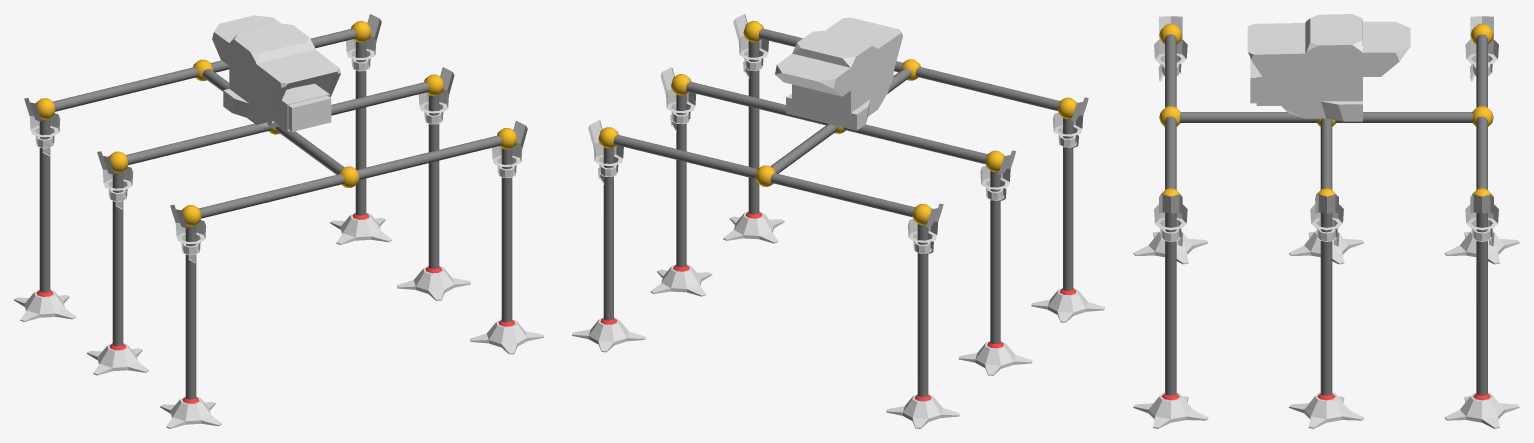
File: player.glb
3 views of the same model, side by side, from view 1: azimuth 30°, elevation 25°; view 2: azimuth 150°, elevation 25°; view 3: azimuth 270°, elevation 25° (orthographic). The views are drawn at different scales.
Visible parts, largest first — view 1: joint_node1, leg_L2, leg_R1, leg_R2, leg_R0, leg_L1, leg_L0, hip_L2, hip_R0, hip_R2, hip_R1, joint_foot_L0 (+14 smaller); view 2: joint_node1, leg_R0, leg_R1, leg_L0, leg_R2, leg_L2, leg_L1, hip_L0, hip_R0, hip_R2, hip_R1, hip_L1 (+14 smaller); view 3: joint_node1, leg_L1, leg_L0, leg_L2, spine2, joint_foot_L1, joint_foot_L0, joint_foot_L2, spine1, joint_knee_L2, joint_knee_L1, joint_knee_L0 (+10 smaller).
Part boxes in pixels (x1=…): joint_node1: x1=212, y1=15, x2=340, y2=134; leg_L2: x1=501, y1=148, x2=512, y2=322; leg_R1: x1=112, y1=172, x2=123, y2=346; leg_R2: x1=185, y1=225, x2=196, y2=399; leg_R0: x1=39, y1=118, x2=50, y2=292; leg_L1: x1=428, y1=95, x2=439, y2=268; leg_L0: x1=355, y1=41, x2=366, y2=215; hip_L2: x1=357, y1=135, x2=501, y2=179; hip_R0: x1=53, y1=67, x2=197, y2=111; hip_R2: x1=199, y1=174, x2=343, y2=218; hip_R1: x1=126, y1=123, x2=271, y2=165; joint_foot_L0: x1=330, y1=212, x2=391, y2=244; joint_node1: x1=775, y1=17, x2=902, y2=133; leg_R0: x1=917, y1=224, x2=928, y2=397; leg_R1: x1=990, y1=171, x2=1000, y2=343; leg_L0: x1=603, y1=147, x2=613, y2=320; leg_R2: x1=1063, y1=118, x2=1073, y2=290; leg_L2: x1=748, y1=41, x2=759, y2=214; leg_L1: x1=676, y1=94, x2=686, y2=267; hip_L0: x1=613, y1=135, x2=757, y2=178; hip_R0: x1=770, y1=173, x2=914, y2=217; hip_R2: x1=915, y1=67, x2=1059, y2=110; hip_R1: x1=843, y1=124, x2=987, y2=163; hip_L1: x1=686, y1=81, x2=827, y2=125; joint_node1: x1=1247, y1=14, x2=1410, y2=126; leg_L1: x1=1320, y1=213, x2=1332, y2=395; leg_L0: x1=1476, y1=213, x2=1487, y2=395; leg_L2: x1=1165, y1=213, x2=1176, y2=395; spine2: x1=1179, y1=112, x2=1317, y2=122; joint_foot_L1: x1=1289, y1=392, x2=1363, y2=428; joint_foot_L0: x1=1444, y1=392, x2=1519, y2=428; joint_foot_L2: x1=1133, y1=392, x2=1208, y2=428; spine1: x1=1335, y1=112, x2=1473, y2=122; joint_knee_L2: x1=1154, y1=188, x2=1187, y2=246; joint_knee_L1: x1=1310, y1=188, x2=1343, y2=246; joint_knee_L0: x1=1465, y1=188, x2=1498, y2=246.
Bounding box in the file's own units: 2.39 × 1.71 × 1.99.
